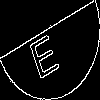E: (25, 25, 61, 81)
